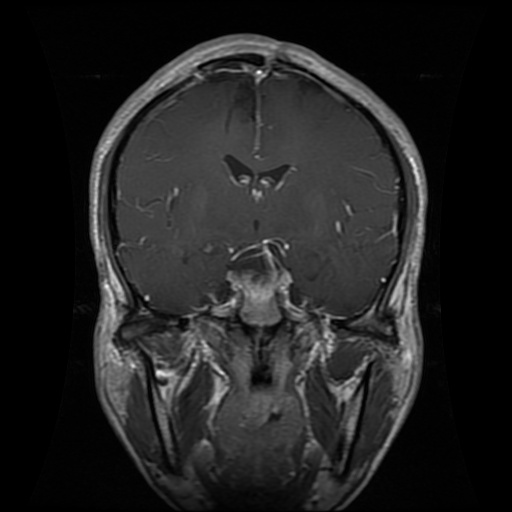glioma: (204, 72, 264, 131)
